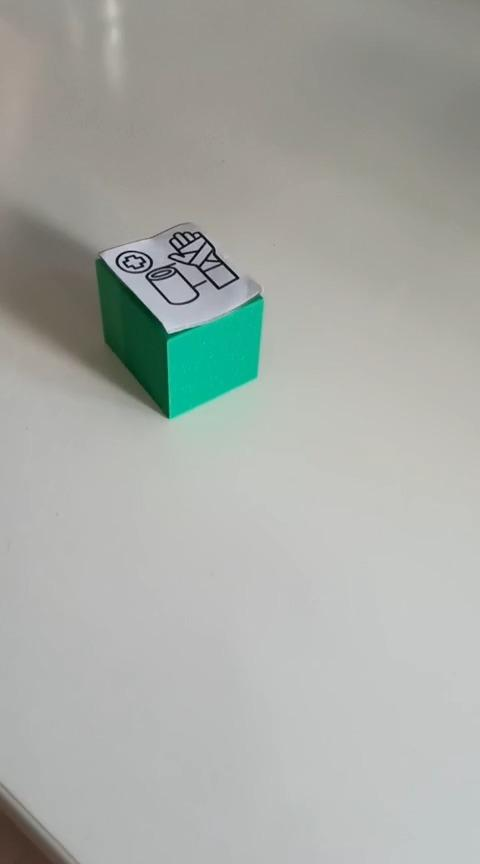Bandages: (94, 220, 264, 419)
